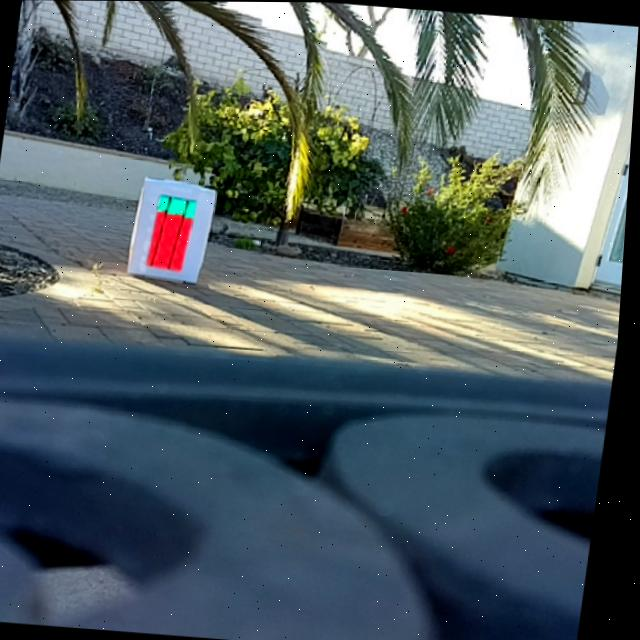led: (148, 192, 201, 274)
